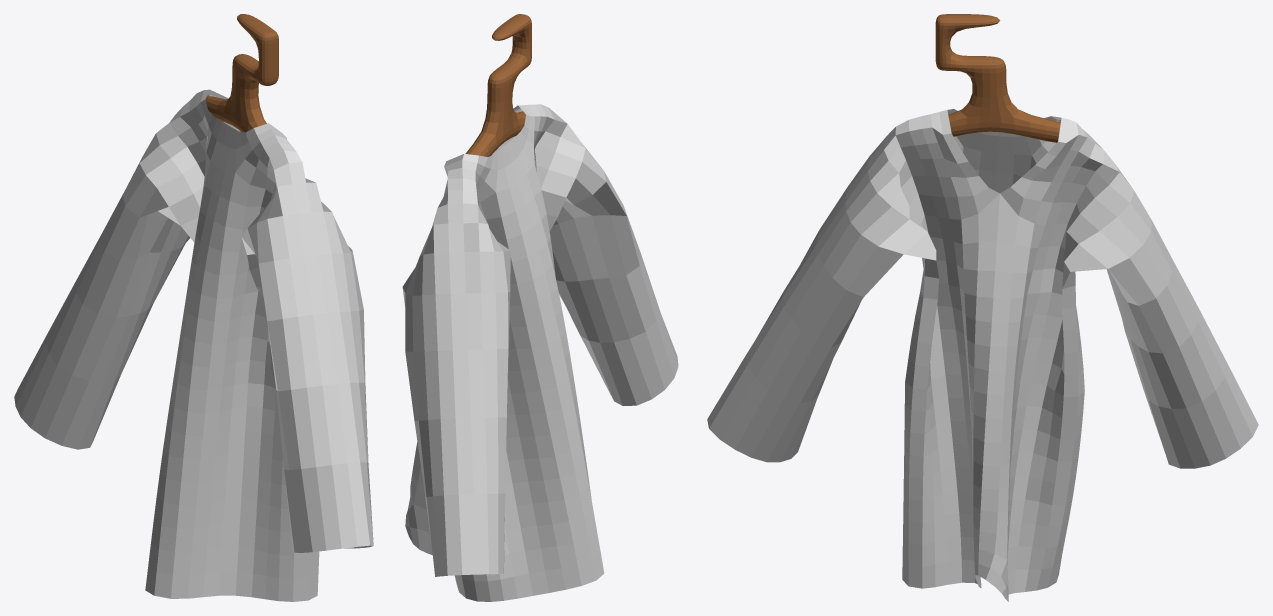
Rendered from labcoatandhanger.fbx.
3 views of the same model, side by side, from view 1: azimuth 30°, elevation 25°; view 2: azimuth 150°, elevation 25°; view 3: azimuth 270°, elevation 25° (orthographic). The views are drawn at different scales.
Visible parts, largest first — view 1: Cube, Cube.001; view 2: Cube, Cube.001; view 3: Cube, Cube.001.
Part boxes in pixels (left/top/right/bottom): Cube: left=14, top=89, right=373, bottom=601; Cube.001: left=205, top=14, right=278, bottom=132; Cube: left=402, top=104, right=678, bottom=601; Cube.001: left=465, top=14, right=531, bottom=156; Cube: left=707, top=109, right=1258, bottom=601; Cube.001: left=935, top=14, right=1060, bottom=142.
Bounding box in the file's own units: 206 × 541 × 478.
